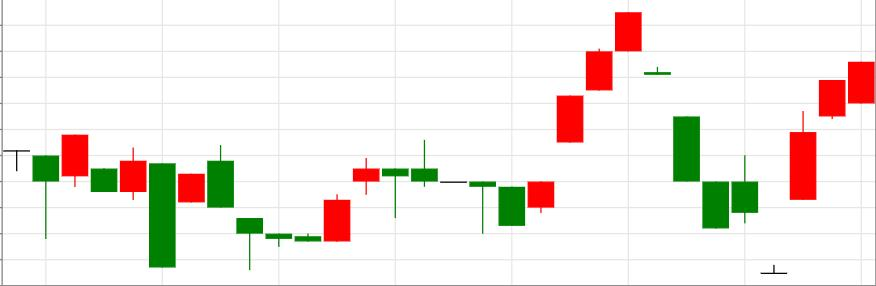three_white_soldiers_rise: (411, 12, 642, 233)
